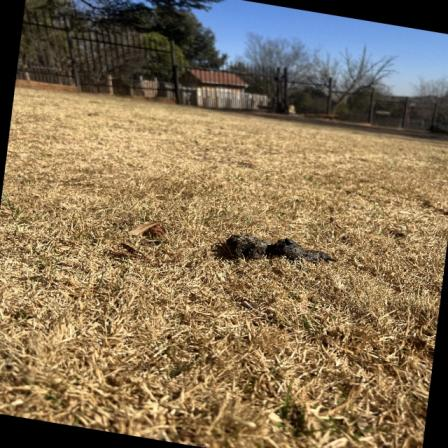dog-poop: (219, 220, 332, 266)
